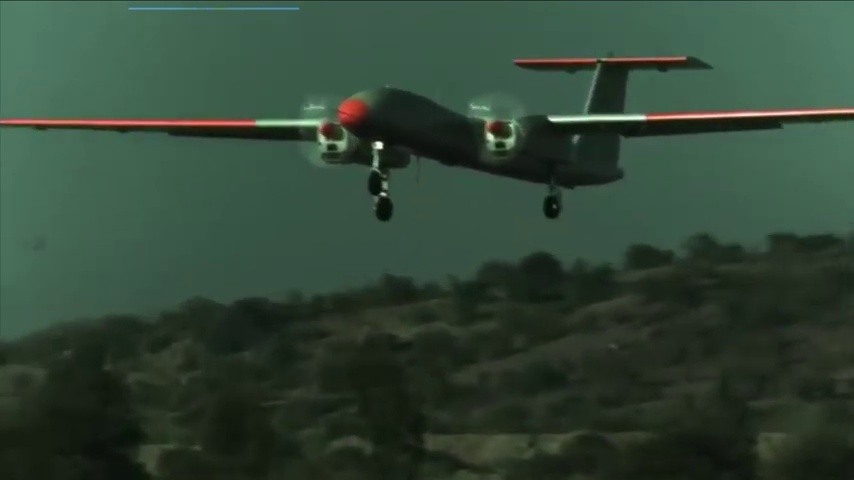military drone: (0, 56, 854, 221)
